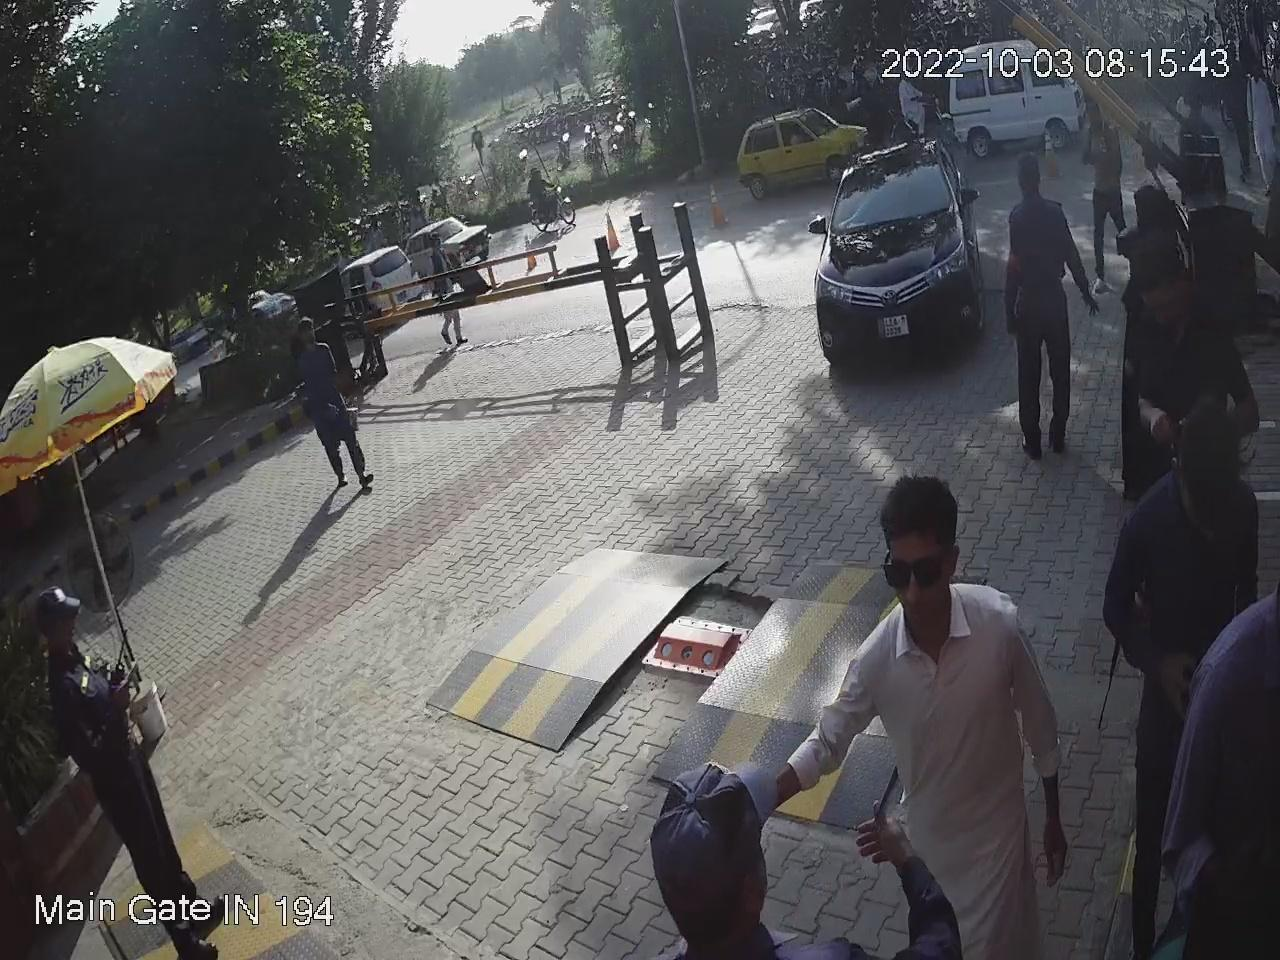windshield: (825, 147, 963, 240)
